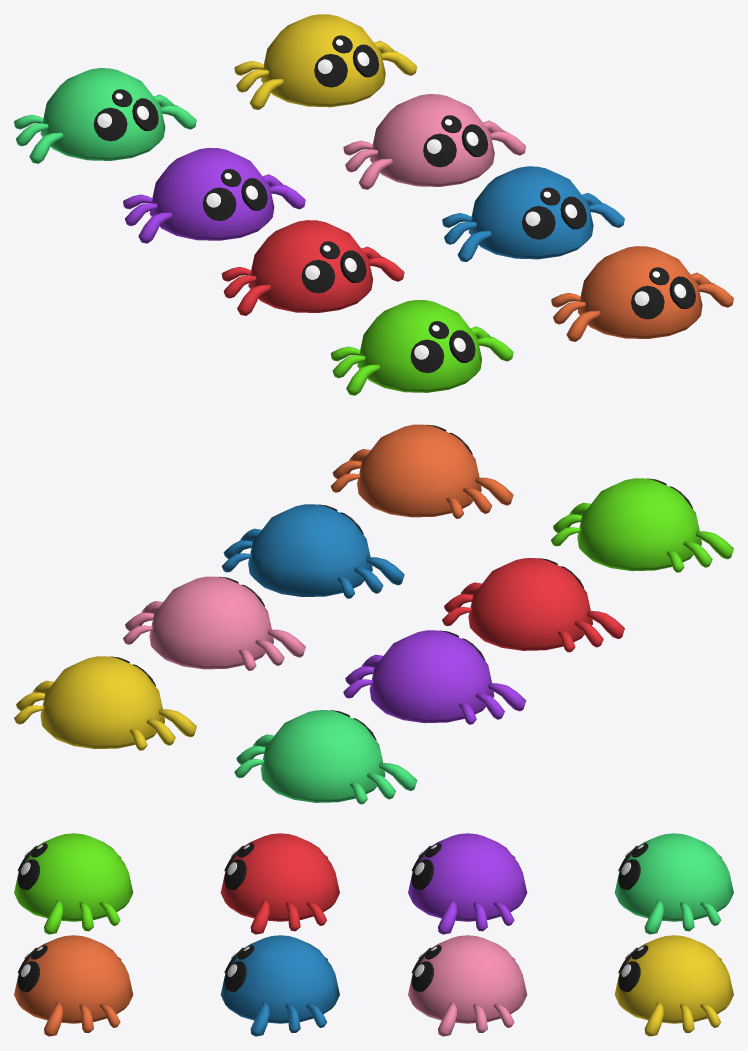
The model's file is spiders.fbx.
The picture shows the model from 3 angles, top to bottom: view 1: azimuth 30°, elevation 25°; view 2: azimuth 150°, elevation 25°; view 3: azimuth 270°, elevation 25°; orthographic projection. The views are drawn at different scales.
Parts seen in each view (by area): view 1: Salad, Yellow, Blue, Green, Red, Orange, Purple, Pink; view 2: Pink, Orange, Blue, Green, Salad, Purple, Yellow, Red; view 3: Red, Green, Salad, Yellow, Orange, Blue, Purple, Pink.
Part boxes in pixels (x1,y1,x2,y2): Salad: [14, 68, 196, 163]; Yellow: [234, 14, 416, 109]; Blue: [442, 166, 624, 261]; Green: [331, 300, 513, 395]; Red: [221, 220, 404, 315]; Orange: [551, 246, 733, 341]; Purple: [123, 147, 305, 243]; Pink: [343, 94, 525, 189]; Pink: [123, 576, 305, 670]; Orange: [330, 424, 513, 518]; Blue: [221, 504, 404, 598]; Green: [551, 478, 733, 572]; Salad: [234, 710, 417, 804]; Purple: [343, 630, 526, 724]; Yellow: [14, 656, 196, 750]; Red: [442, 558, 624, 652]; Red: [220, 833, 339, 934]; Green: [14, 833, 133, 934]; Salad: [614, 833, 733, 934]; Yellow: [614, 935, 733, 1036]; Orange: [14, 935, 133, 1036]; Blue: [220, 935, 339, 1036]; Purple: [408, 833, 527, 934]; Pink: [408, 935, 527, 1036].
Size of the model in its own units: 176 by 30.28 by 301.
